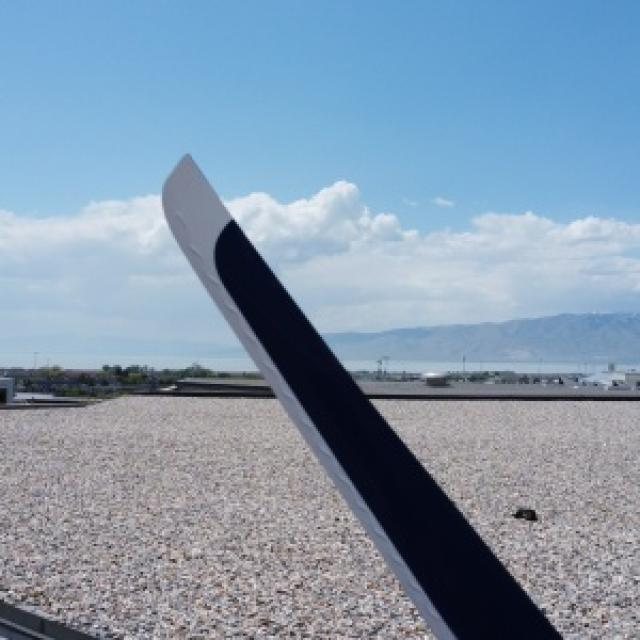healthy: (160, 154, 561, 638)
